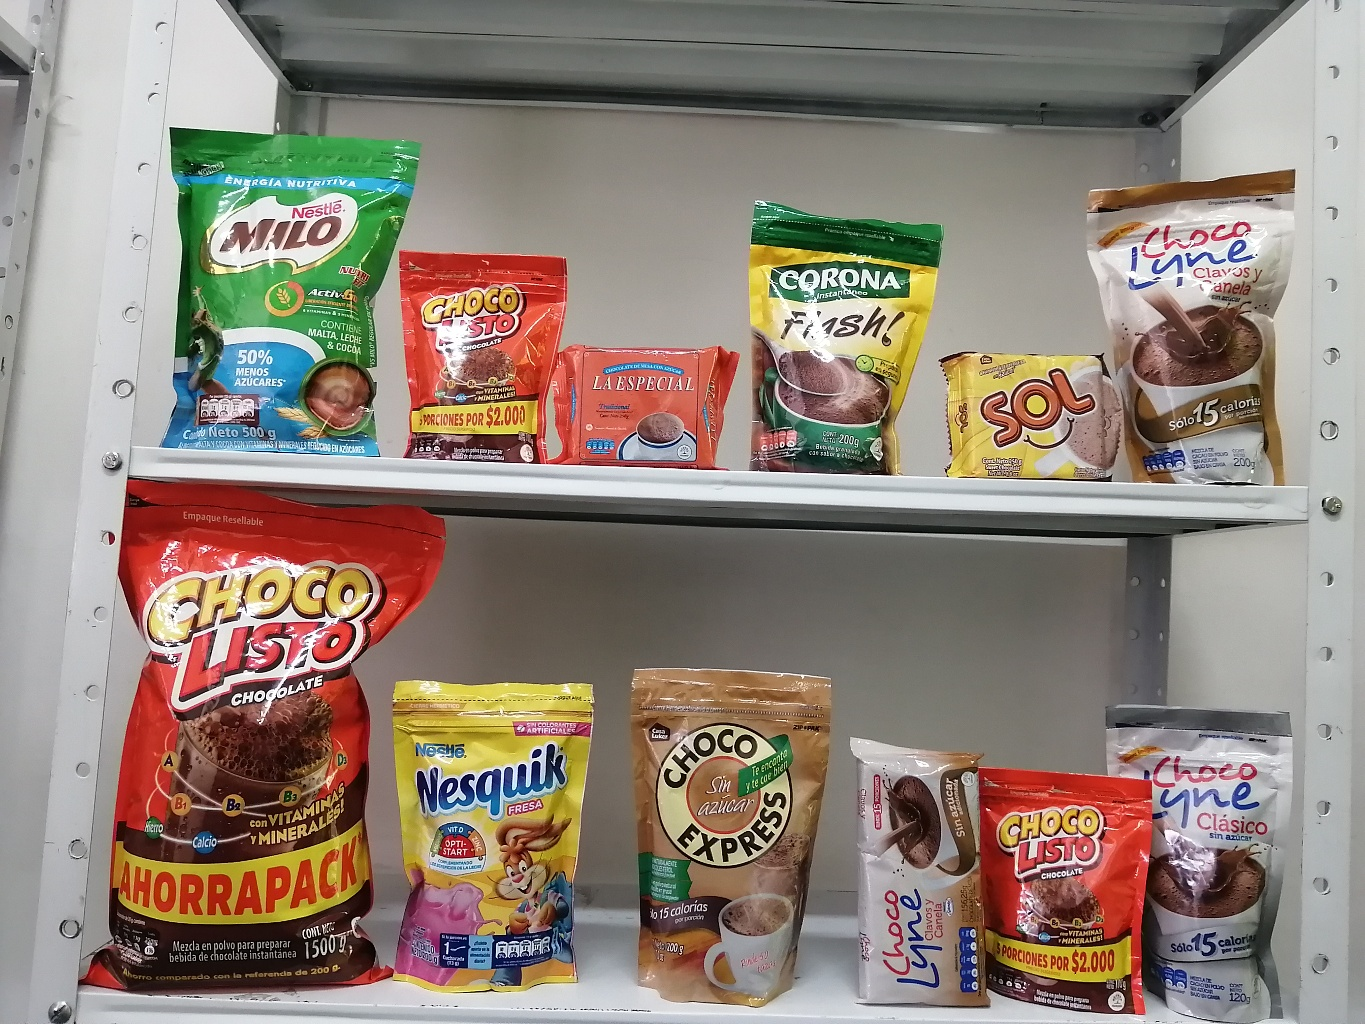COL0170103DYP1,500: (60, 463, 431, 1002)
COL0170205DYP50000: (128, 99, 428, 468)
